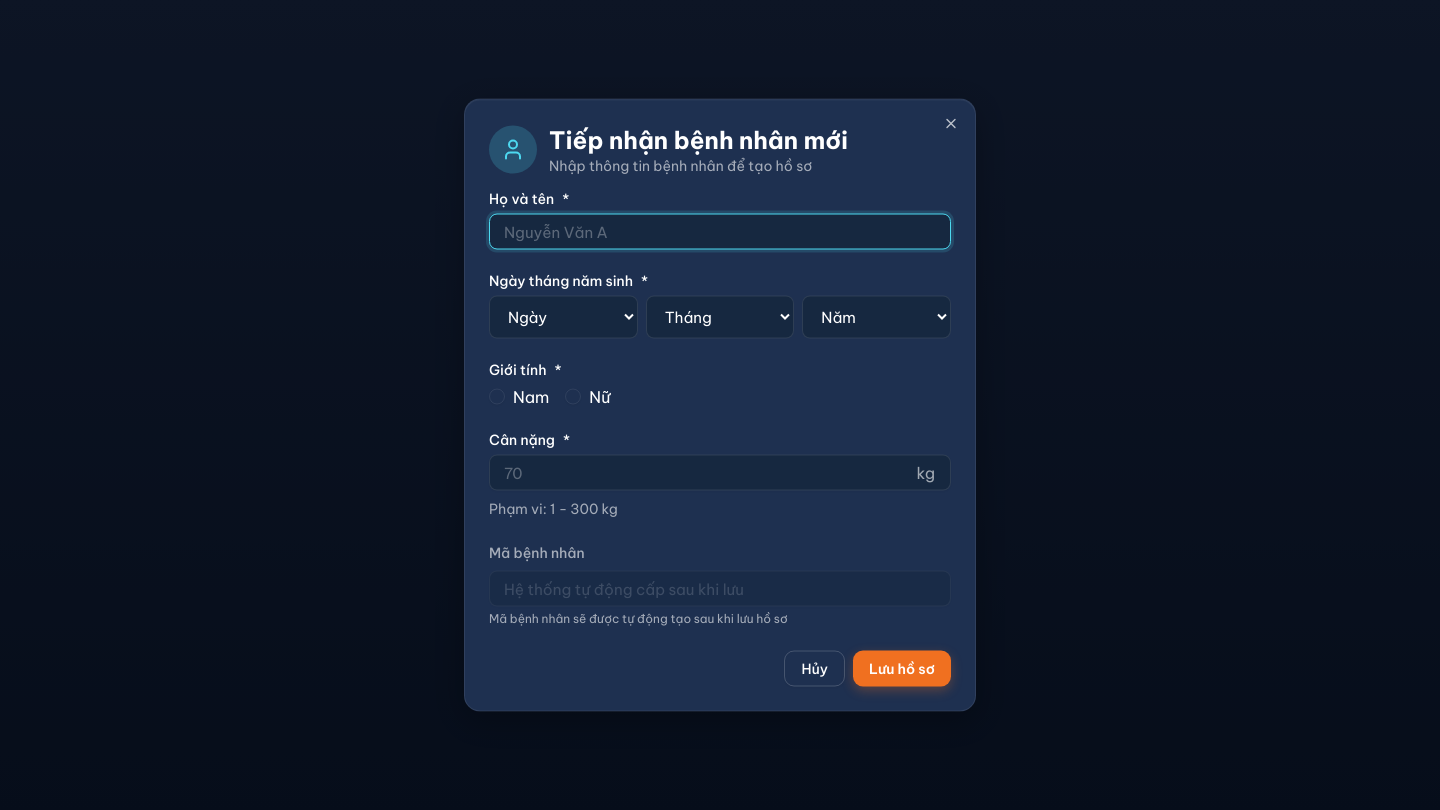
Scenario: PatientRegistrationDialog Component › Form Validation › should show error for short full name
The width and height of the screenshot is (1440, 810).
Type "A" into the field labelled "Họ và tên *" at (720, 232), box x1=489 y1=214 x2=951 y2=250
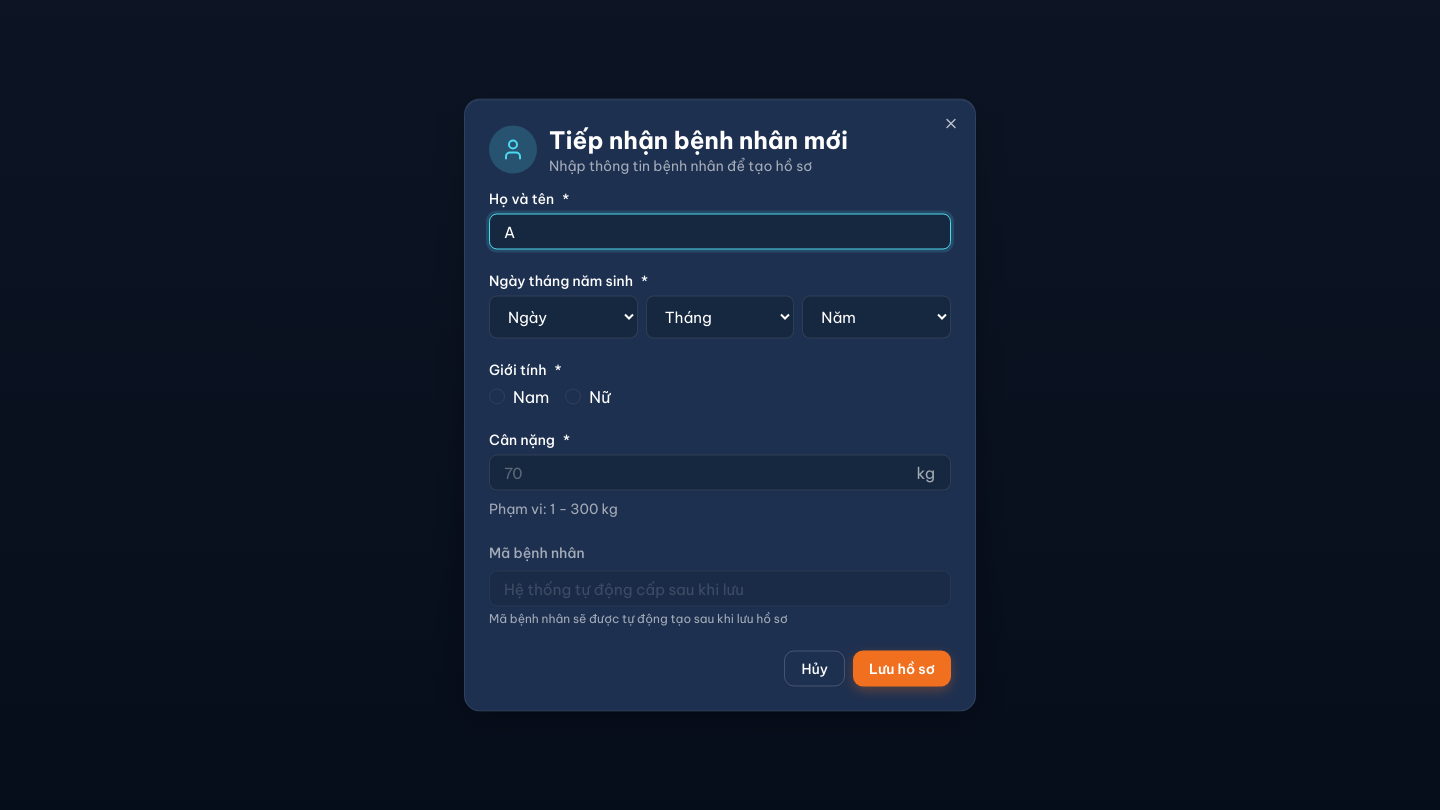
Click the button "Lưu hồ sơ" at (902, 668), box x1=853 y1=650 x2=951 y2=686
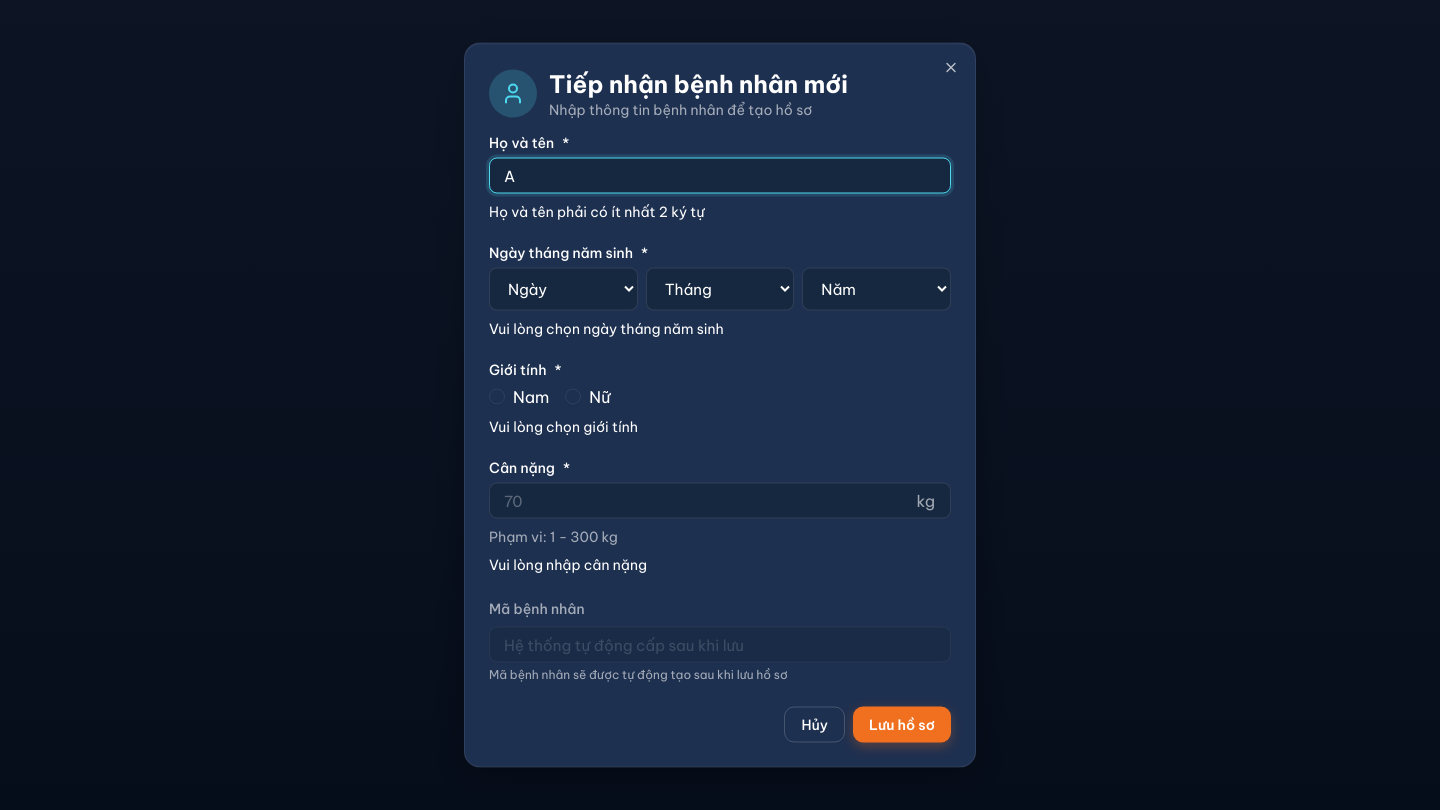
Expected: the text "Họ và tên phải có ít nhất 2 ký tự" is shown, x1=489 y1=202 x2=704 y2=220
